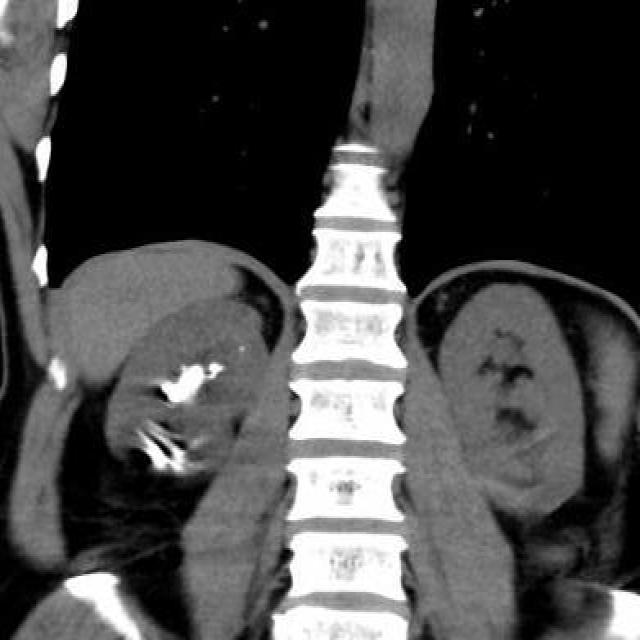Tas_Var: (160, 355, 208, 405), (140, 434, 169, 474), (169, 457, 186, 475), (170, 444, 188, 454), (209, 360, 225, 370), (206, 372, 221, 380), (238, 343, 248, 353)
